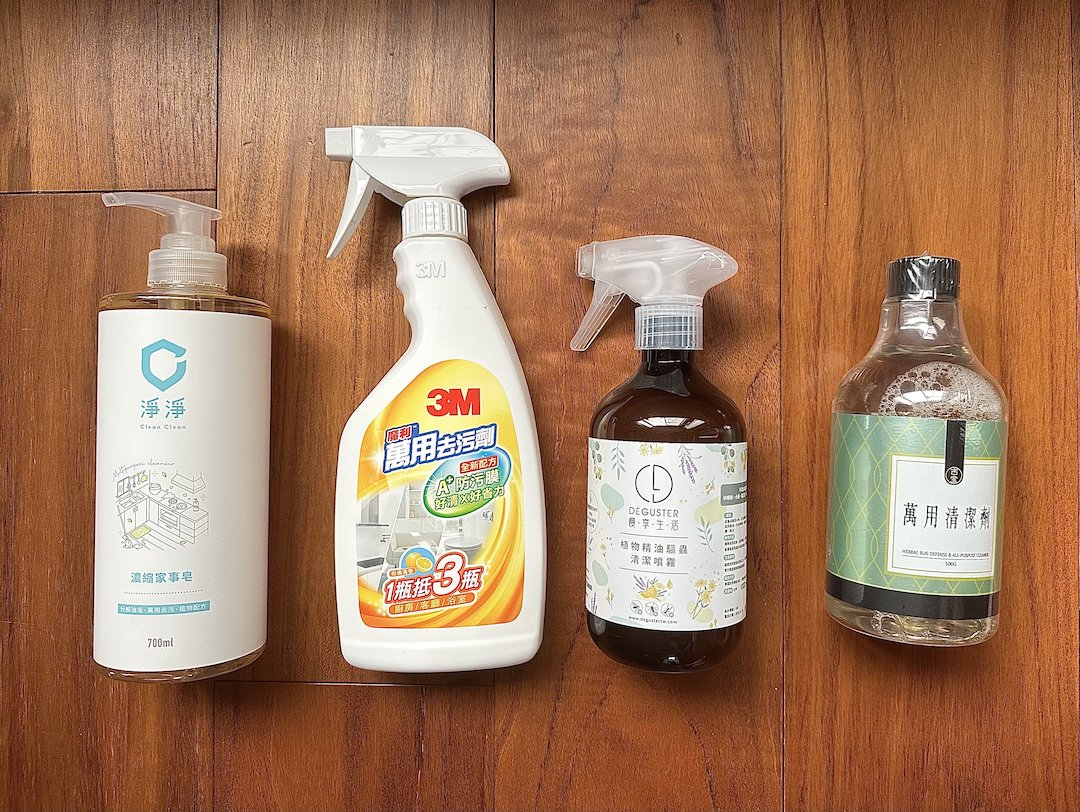cleaner: (310, 119, 558, 686), (83, 187, 278, 688), (568, 234, 769, 682), (815, 249, 1032, 660)
